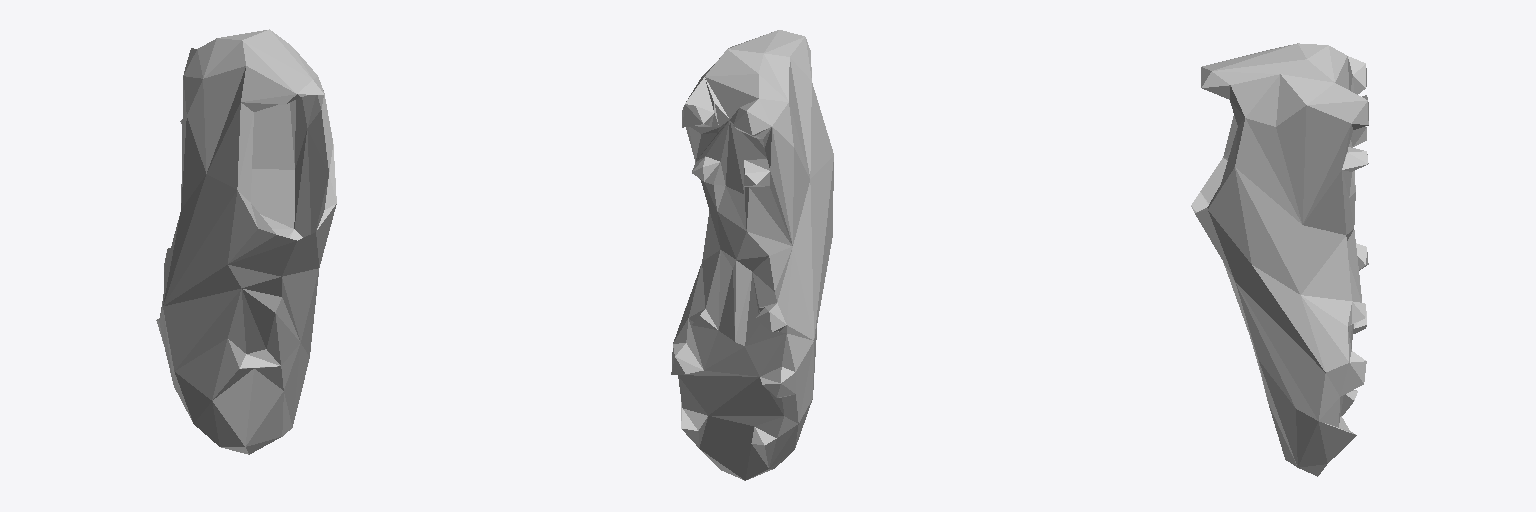
File: gso_RoLoPM_adizero_F50_TRX_FG_LEA.obj
3 views of the same model, side by side, from view 1: azimuth 30°, elevation 25°; view 2: azimuth 150°, elevation 25°; view 3: azimuth 270°, elevation 25° (orthographic).
Size of the model in its own units: 0.0966 by 0.2788 by 0.1072.